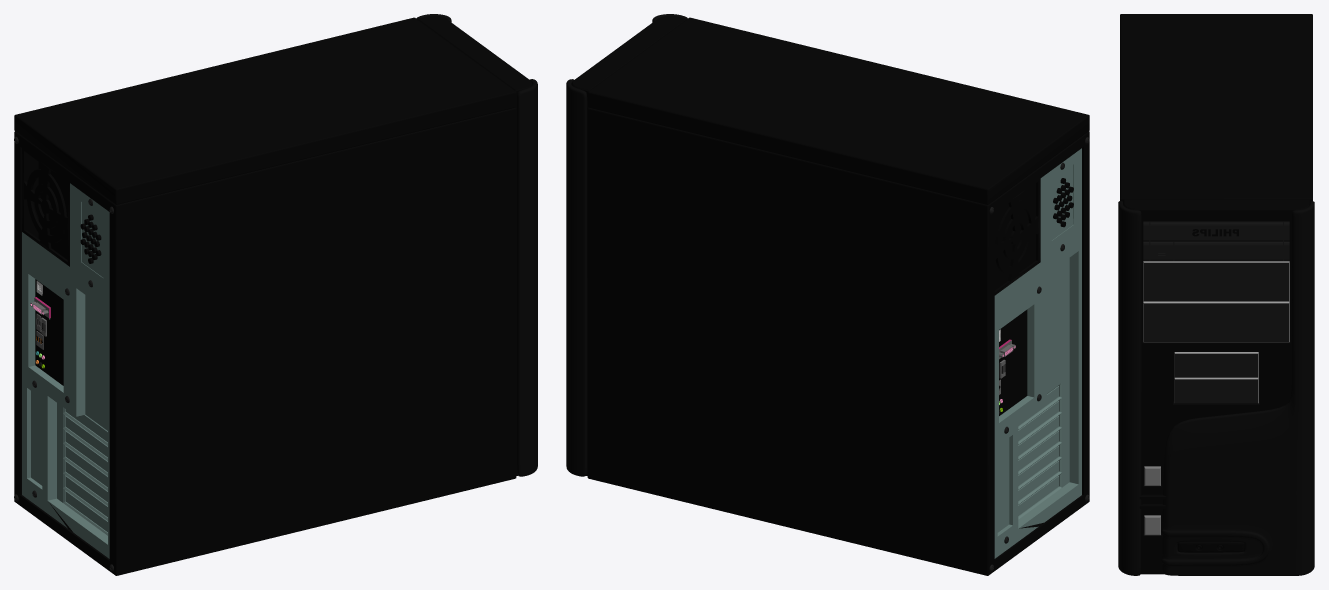
The model's file is cpu box.FBX.
The picture shows the model from 3 angles, left to right: view 1: azimuth 30°, elevation 25°; view 2: azimuth 150°, elevation 25°; view 3: azimuth 270°, elevation 25°; orthographic projection. The views are drawn at different scales.
Parts seen in each view (by area): view 1: Cylinder044; view 2: Cylinder044; view 3: Cylinder044.
Boxes of the visible parts, x1,y1,x2,y2 form: Cylinder044: [14, 14, 537, 575]; Cylinder044: [566, 14, 1089, 575]; Cylinder044: [1118, 14, 1314, 575].
Size of the model in its own units: 87.7 by 74.91 by 36.45.
